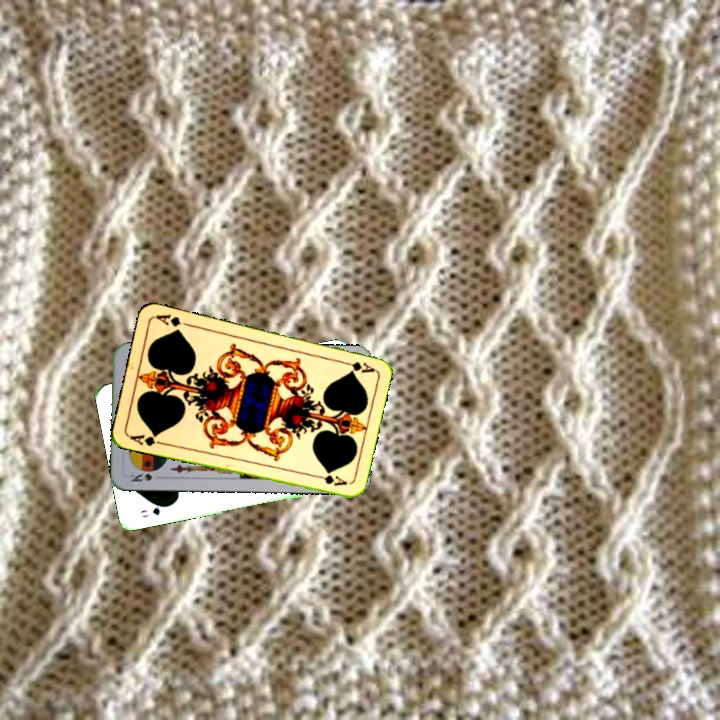GA: (126, 430, 166, 449), (336, 357, 376, 375)
GO: (136, 501, 172, 520)
SK: (126, 467, 166, 484)
